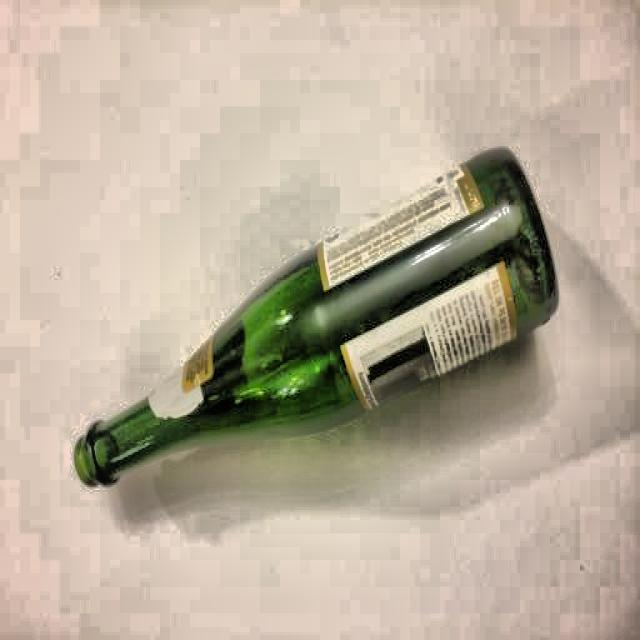glass: (72, 144, 560, 489)
